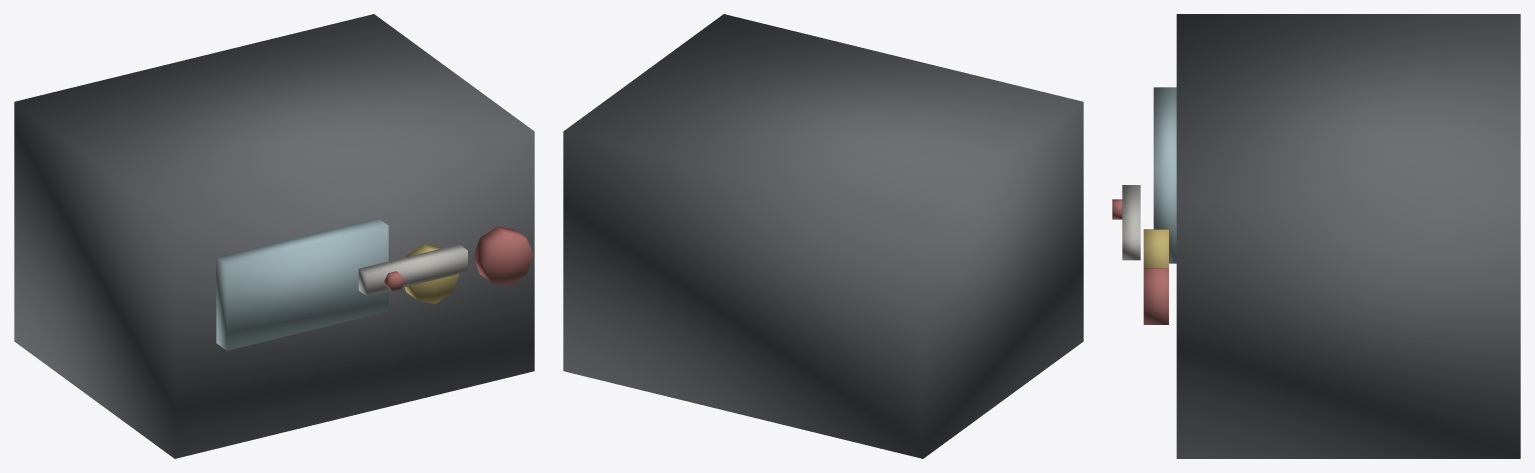
The model's file is bench_power_supply.glb.
3 views of the same model, side by side, from view 1: azimuth 30°, elevation 25°; view 2: azimuth 150°, elevation 25°; view 3: azimuth 270°, elevation 25° (orthographic). The views are drawn at different scales.
Parts seen in each view (by area): view 1: world; view 2: world; view 3: world.
Boxes of the visible parts, x1,y1,x2,y2 form: world: (14, 14, 534, 458); world: (563, 14, 1083, 458); world: (1112, 14, 1520, 458).
Size of the model in its own units: 0.44 by 0.28 by 0.4035.
